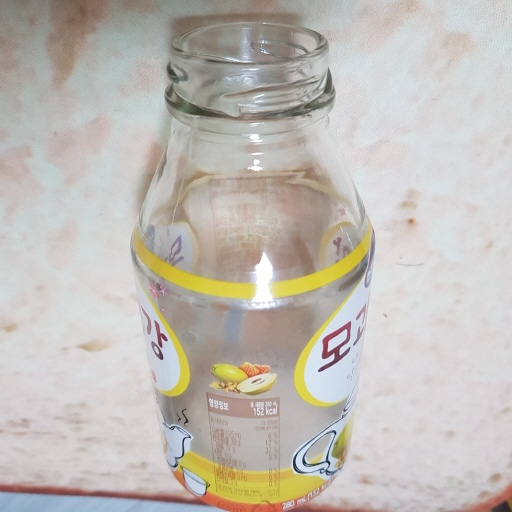Glass_4: (136, 19, 377, 512)
